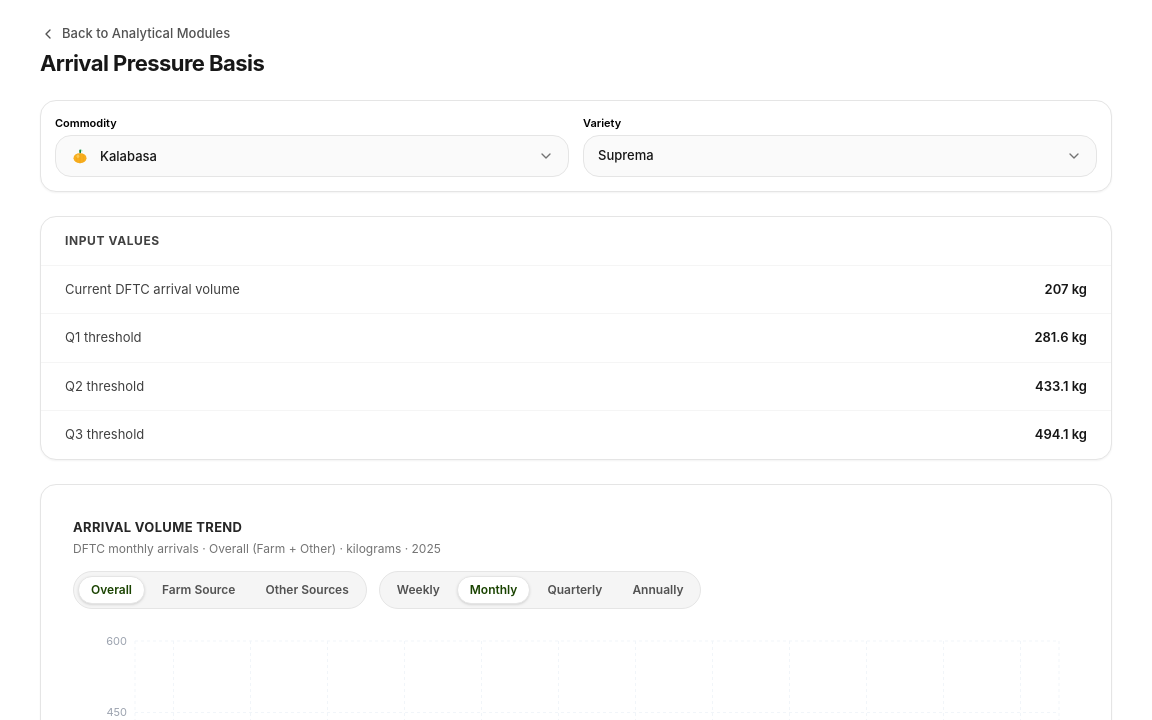
Admin arrival volume trend › switches the subtitle when a different source is chosen
Expected: the text "Arrival Volume Trend" is shown, top-left (73, 519), bottom-right (242, 535)
Click the button "Other Sources".
click(307, 590)  # box top-left (252, 576), bottom-right (362, 604)
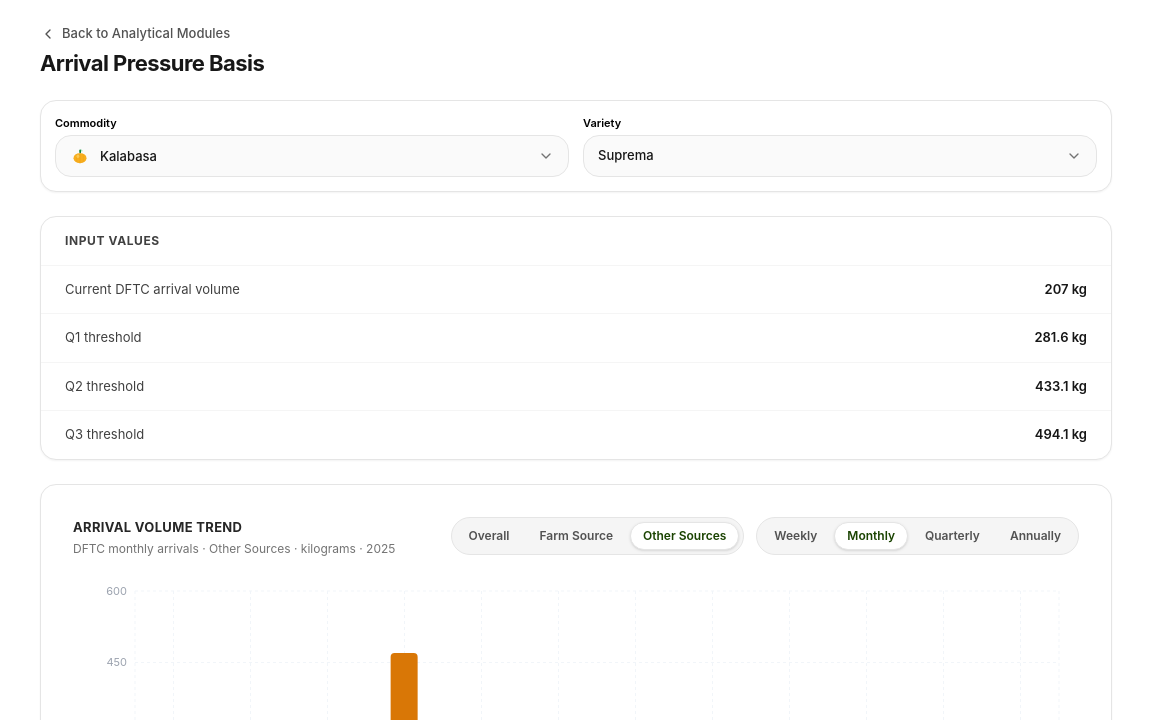
Result: the text "DFTC monthly arrivals · Other Sources · kilograms · 2025" is shown at top-left (73, 539), bottom-right (395, 559)
